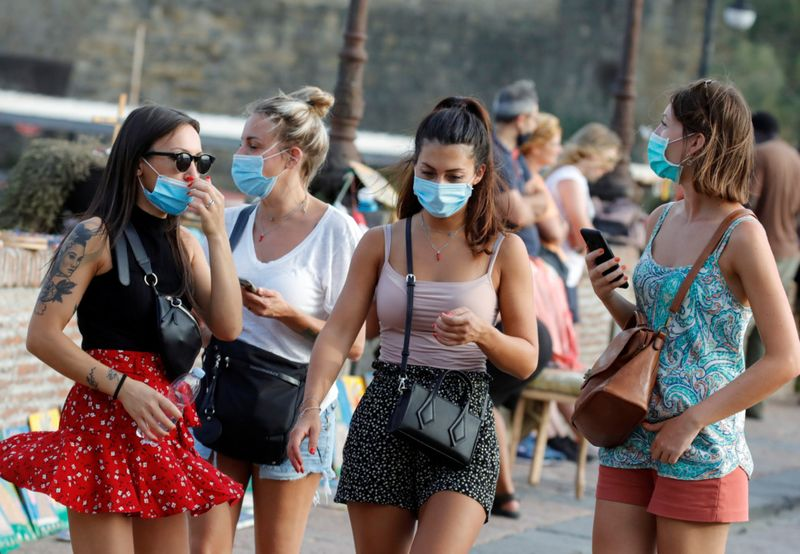with_incorrect_mask: (142, 149, 203, 214)
with_mask: (229, 135, 286, 195), (415, 157, 474, 210), (646, 115, 688, 174)
